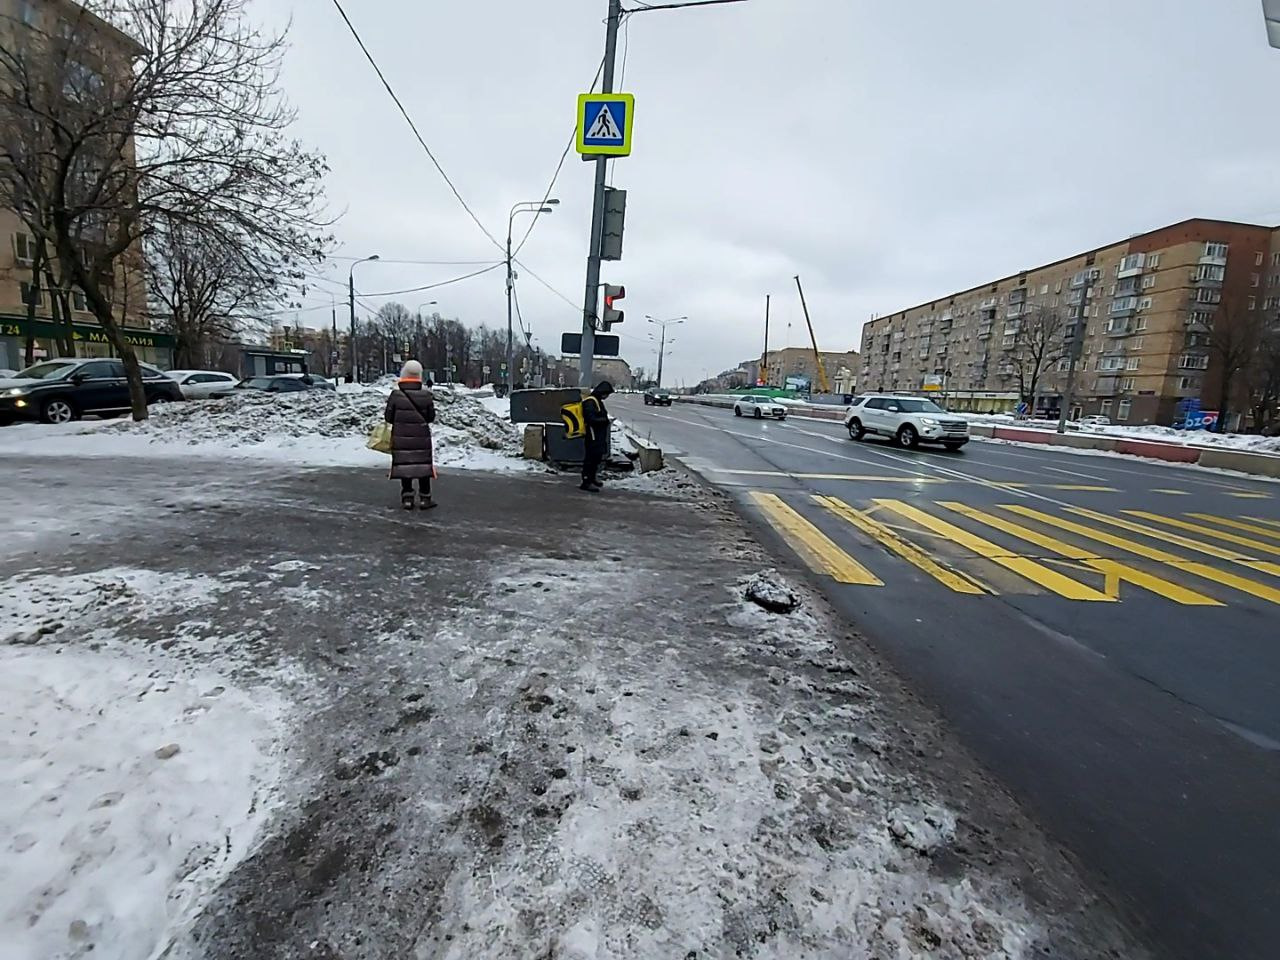sombie: (560, 378, 638, 498)
